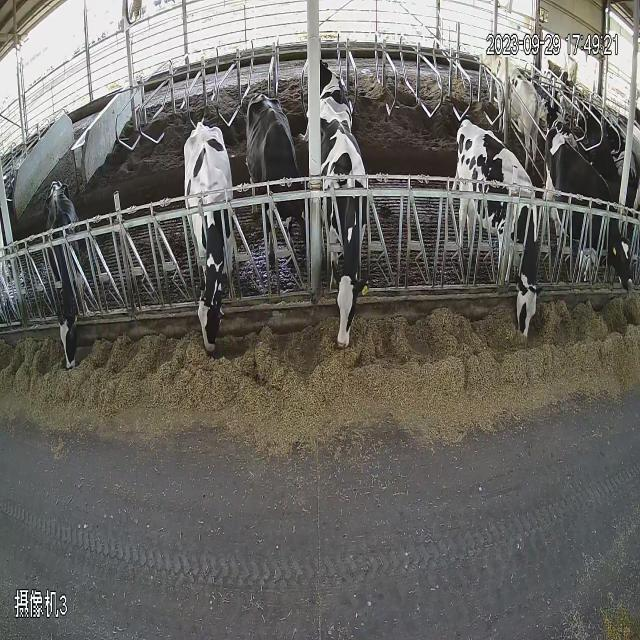feeding: (23, 98, 100, 378), (460, 116, 545, 357), (178, 104, 250, 370), (314, 117, 389, 365)
lying down: (295, 44, 363, 142)
standing: (243, 50, 310, 298), (244, 60, 310, 303), (470, 29, 564, 172)
